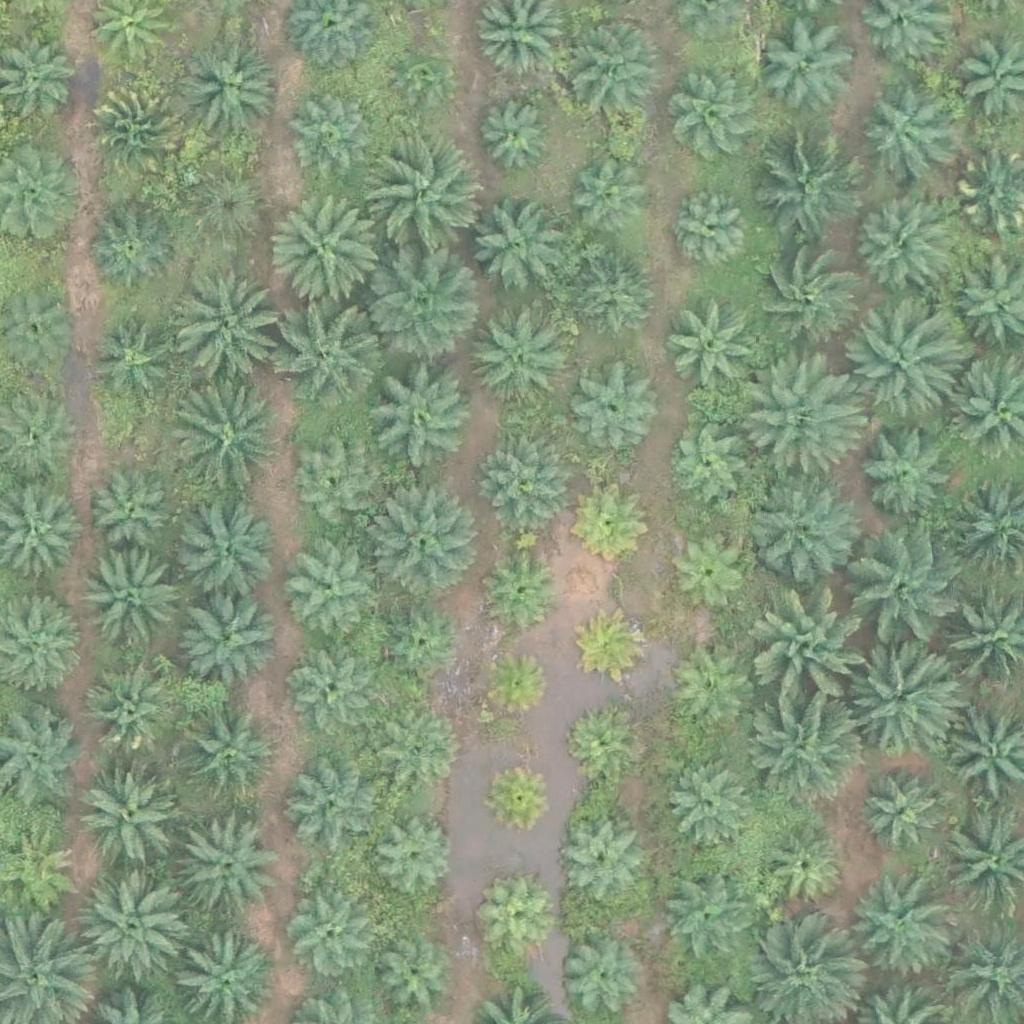Kelapa_Sawit: (169, 273, 282, 387), (852, 534, 965, 647), (751, 692, 864, 805), (364, 250, 477, 363), (365, 360, 478, 473), (366, 483, 479, 596), (275, 296, 388, 409), (271, 192, 384, 305), (165, 387, 278, 500), (851, 311, 963, 425), (757, 596, 869, 710), (752, 135, 864, 249), (371, 140, 483, 254), (840, 875, 952, 988), (79, 876, 191, 989), (847, 639, 959, 752), (744, 470, 856, 583), (744, 355, 856, 468), (748, 242, 860, 355), (178, 811, 278, 912), (852, 416, 952, 517), (764, 16, 864, 117), (663, 300, 763, 401), (558, 16, 658, 117), (467, 304, 567, 405), (177, 33, 277, 134), (174, 503, 274, 604), (179, 586, 279, 687), (79, 759, 179, 860), (178, 703, 278, 804), (285, 755, 385, 856), (81, 551, 181, 652), (847, 198, 947, 298), (466, 199, 566, 299), (90, 80, 190, 180), (665, 186, 753, 275), (759, 825, 847, 913), (554, 818, 642, 906), (280, 890, 368, 978), (376, 598, 464, 686), (376, 716, 464, 804), (858, 92, 946, 180), (859, 770, 947, 858), (673, 76, 761, 164), (567, 149, 655, 237), (179, 166, 267, 254), (84, 312, 172, 400), (662, 526, 750, 614), (667, 649, 755, 737), (286, 554, 374, 642), (287, 646, 375, 734), (288, 97, 376, 185), (89, 205, 177, 293), (89, 462, 177, 550), (659, 875, 746, 964), (556, 934, 643, 1022), (372, 814, 459, 902), (570, 254, 657, 342), (665, 424, 752, 512), (666, 758, 753, 846), (480, 434, 567, 522), (567, 365, 654, 453), (292, 443, 379, 531), (84, 668, 171, 756), (477, 99, 552, 175), (561, 704, 636, 780), (478, 884, 553, 960), (483, 757, 558, 833), (576, 608, 651, 684), (486, 550, 561, 625), (478, 647, 553, 722), (576, 486, 651, 561), (388, 43, 450, 106)
